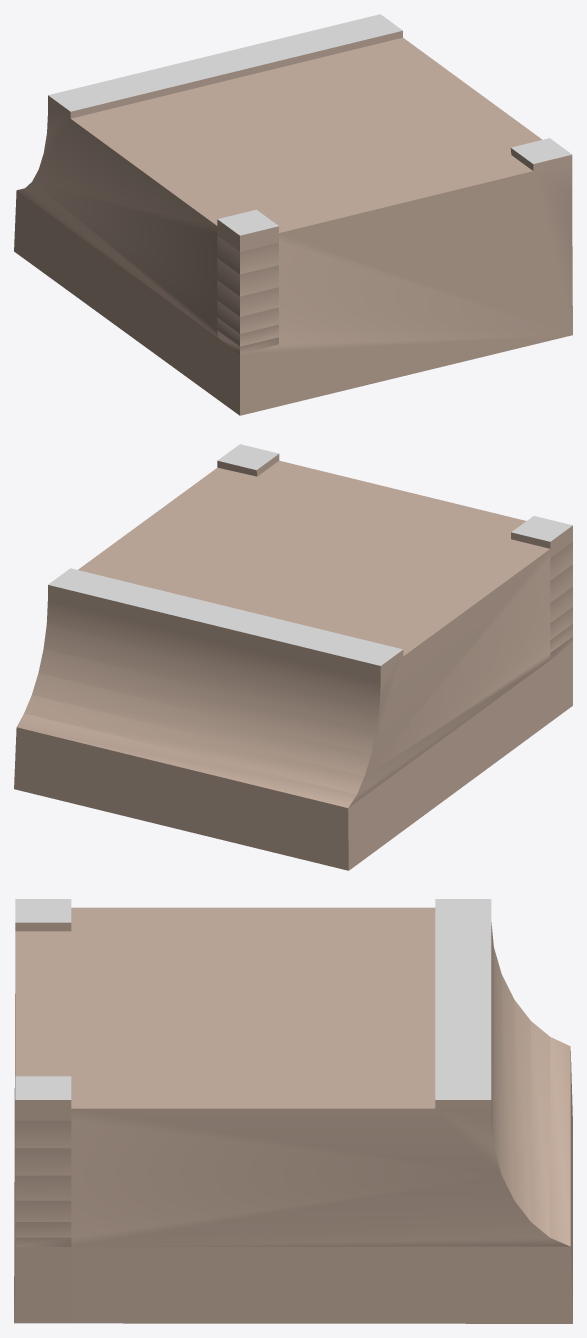
The model's file is DustCityHouse_DoubleCorner.fbx.
The picture shows the model from 3 angles, top to bottom: view 1: azimuth 30°, elevation 25°; view 2: azimuth 150°, elevation 25°; view 3: azimuth 270°, elevation 25°; orthographic projection. The views are drawn at different scales.
Parts seen in each view (by area): view 1: DCHouse_DoubleCorner; view 2: DCHouse_DoubleCorner; view 3: DCHouse_DoubleCorner.
Part boxes in pixels (x1,y1,x2,y2): DCHouse_DoubleCorner: [14, 14, 572, 415]; DCHouse_DoubleCorner: [14, 444, 572, 870]; DCHouse_DoubleCorner: [14, 899, 572, 1323].
Size of the model in its own units: 151 by 77.66 by 176.
